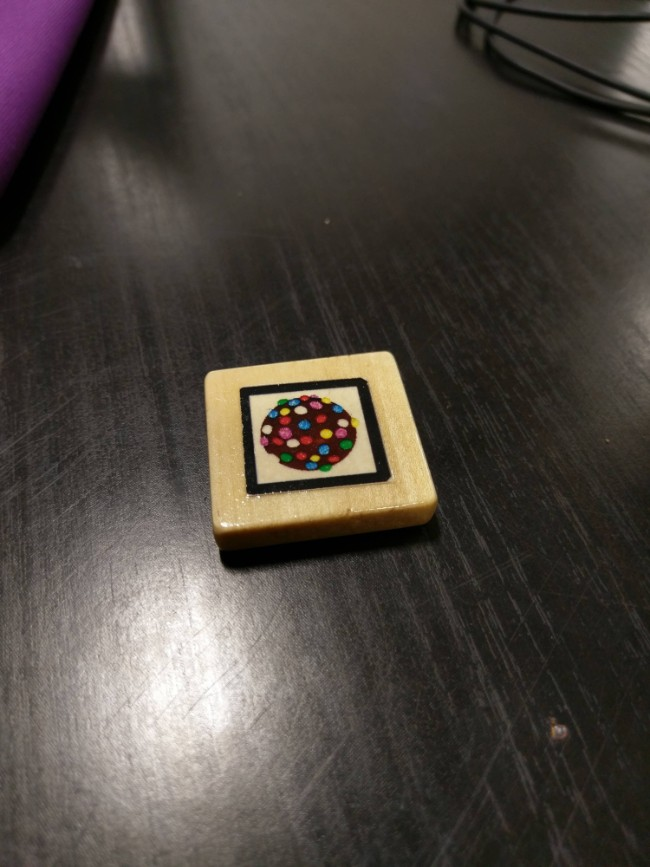cookie: (241, 383, 376, 486)
